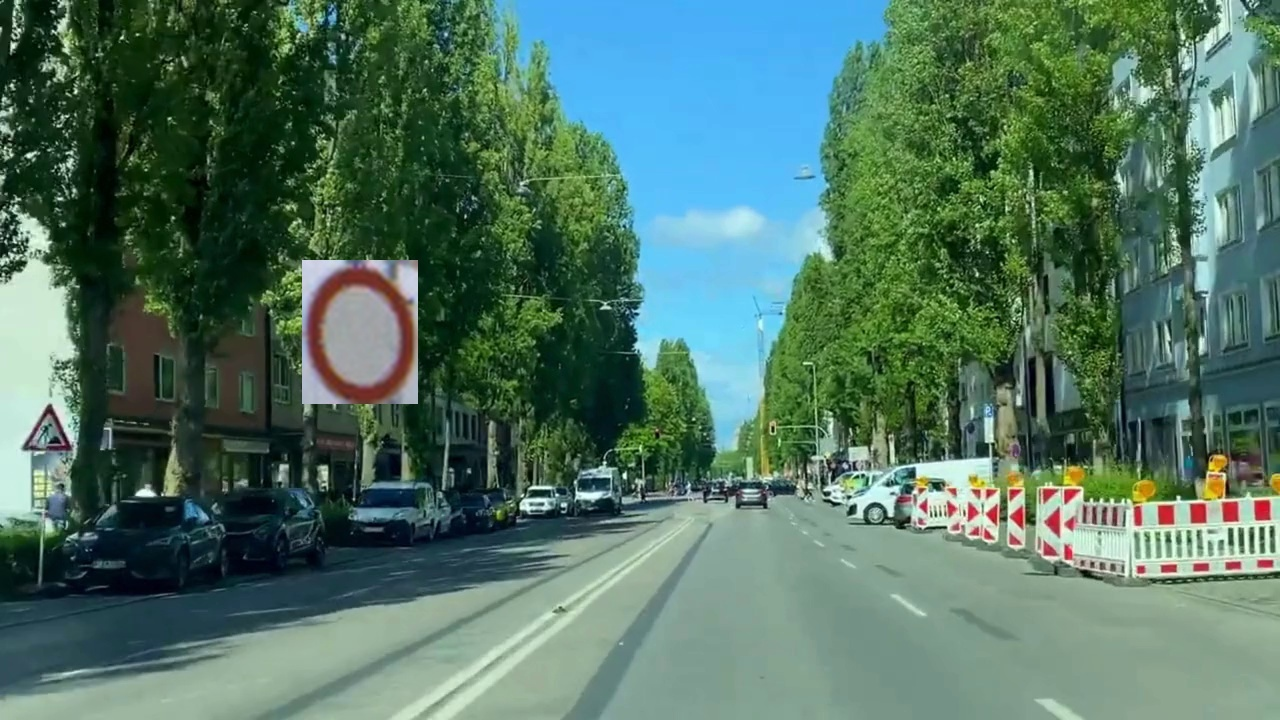No vehicles: (302, 260, 418, 404)
